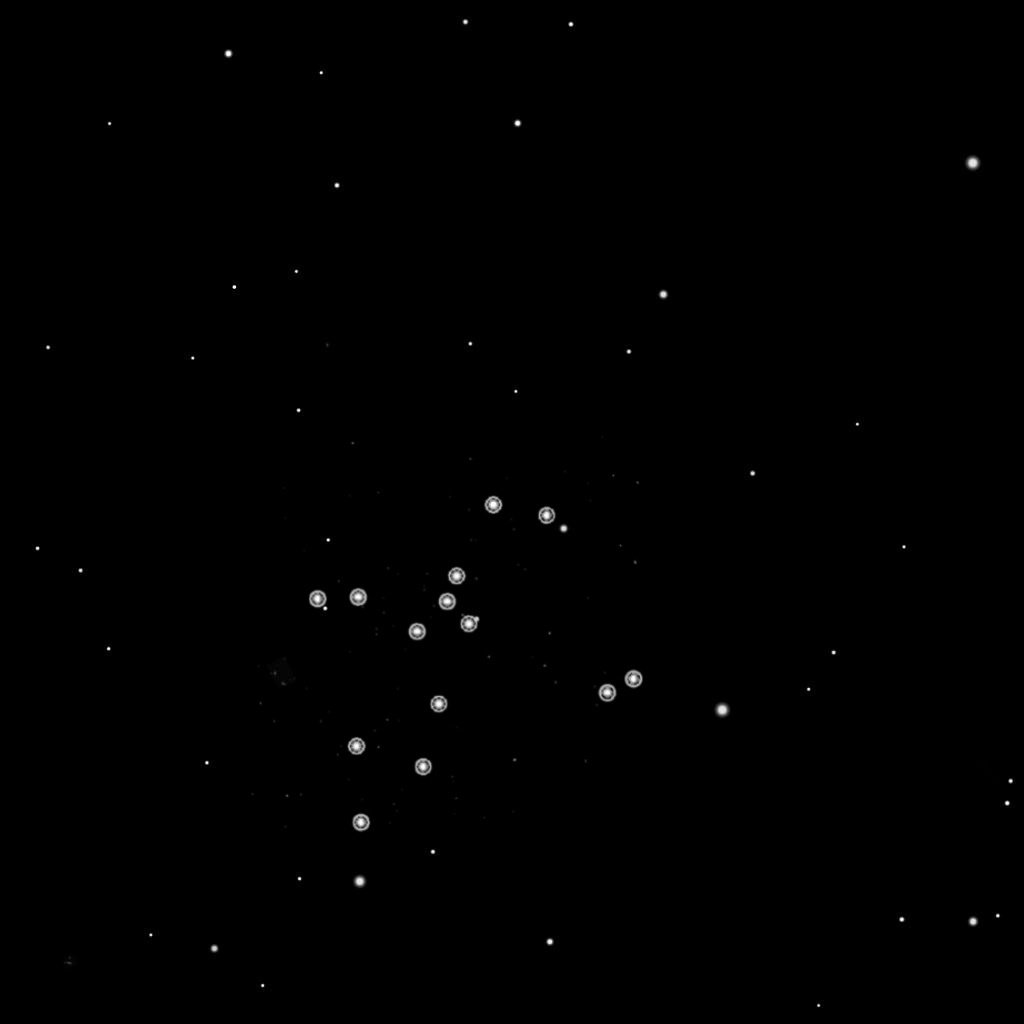canis_major: (405, 489, 560, 648)
